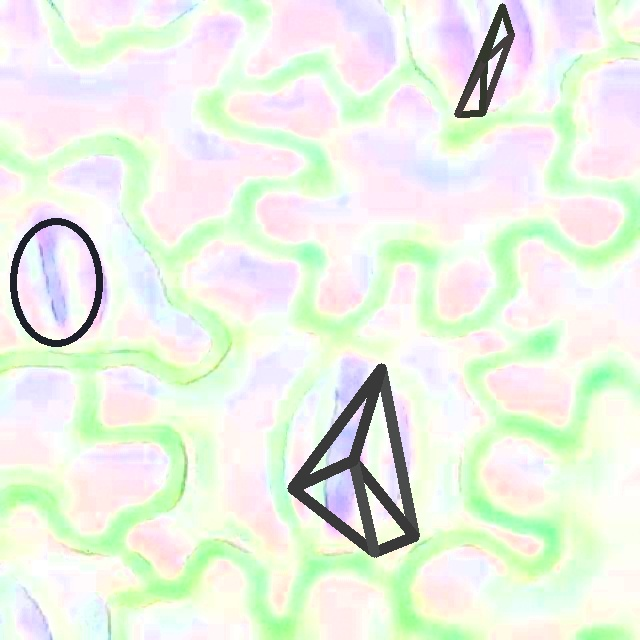open: (288, 364, 418, 556), (10, 218, 102, 346), (454, 3, 514, 116)
